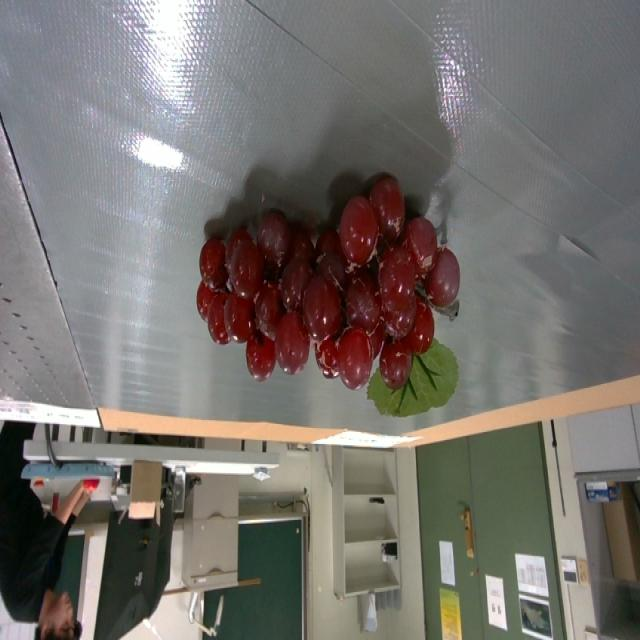grape: (196, 179, 460, 416)
